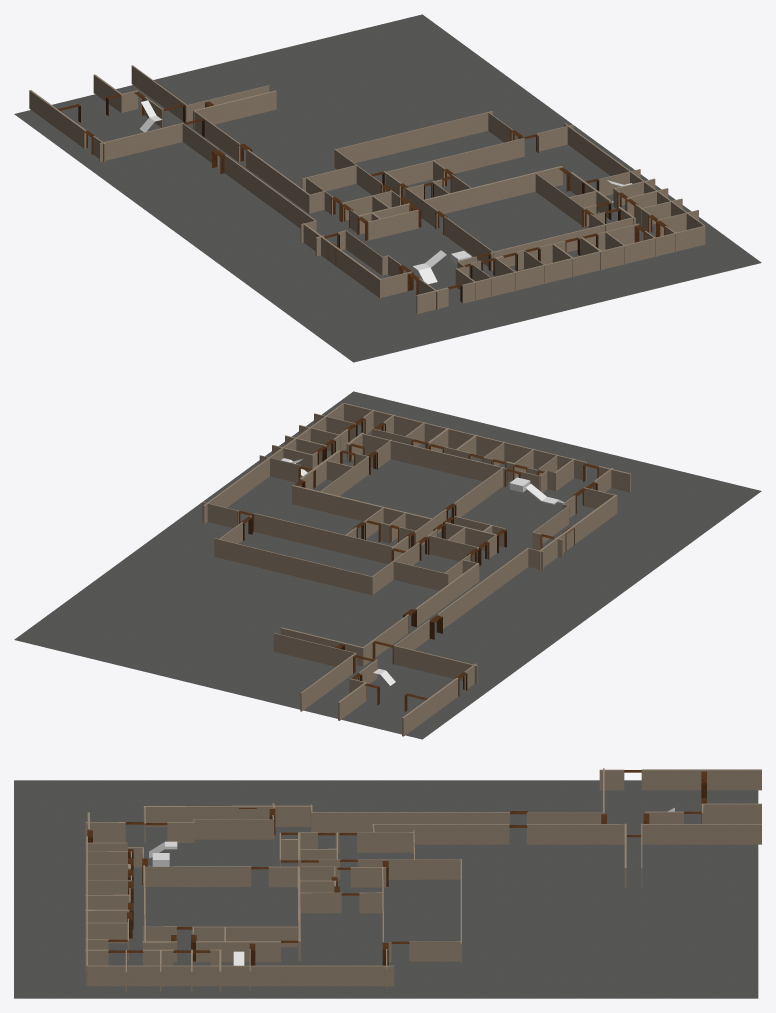
The model's file is ground.glb.
3 views of the same model, one above another, from view 1: azimuth 30°, elevation 25°; view 2: azimuth 150°, elevation 25°; view 3: azimuth 270°, elevation 25° (orthographic). The views are drawn at different scales.
Parts seen in each view (by area): view 1: Plane, Walls, Cube.017; view 2: Plane, Walls, Cube.017; view 3: Plane, Walls, Cube.017.
Part boxes in pixels (x1,y1,x2,y2): Plane: (14, 14, 761, 362); Walls: (29, 65, 705, 313); Cube.017: (58, 92, 668, 301); Plane: (14, 391, 761, 739); Walls: (202, 403, 630, 736); Cube.017: (237, 418, 598, 711); Plane: (14, 780, 758, 998); Walls: (85, 768, 761, 992); Cube.017: (87, 770, 706, 965).
Size of the model in its own units: 46.68 by 2.1 by 67.52.
Materials: 3 (3 with a texture image).
